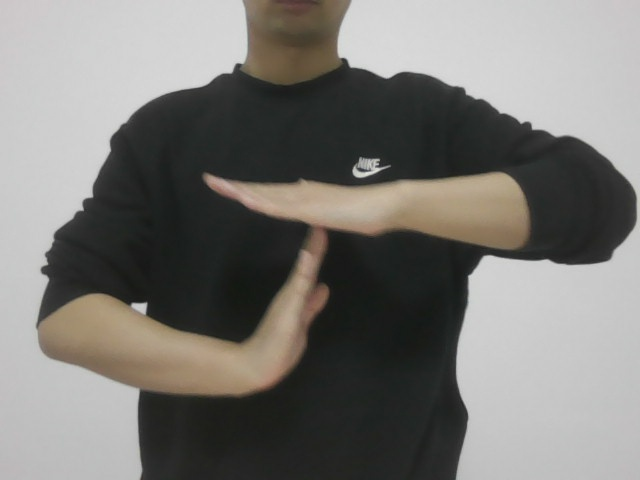stop: (152, 145, 437, 401)
